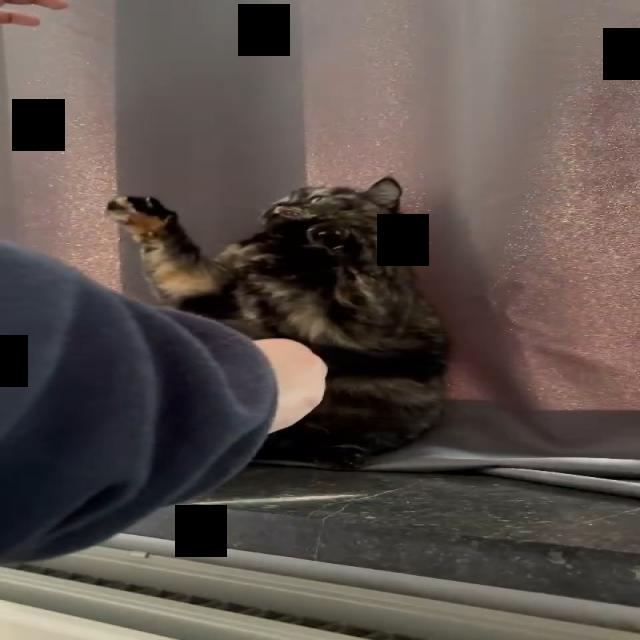authorized: (104, 175, 452, 470), (103, 194, 240, 320)
